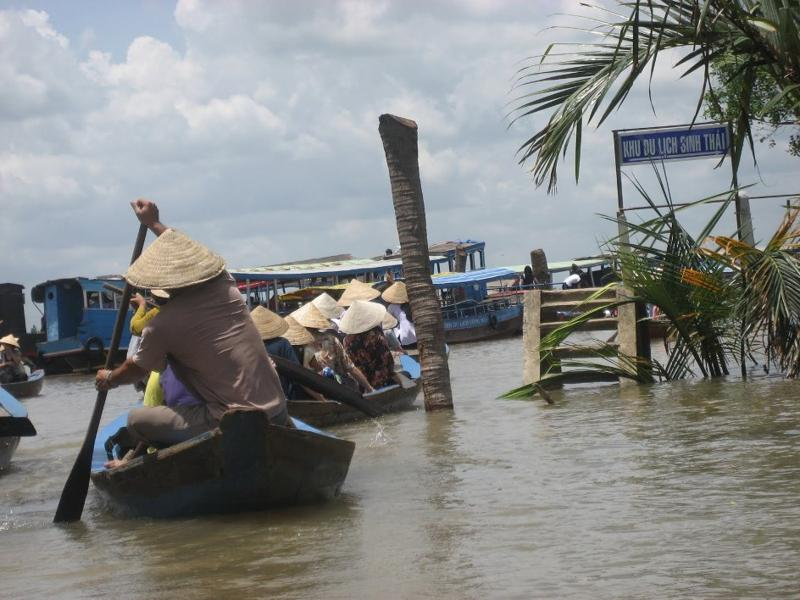person: (93, 197, 289, 471)
